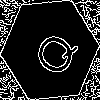Q: (25, 25, 80, 81)
